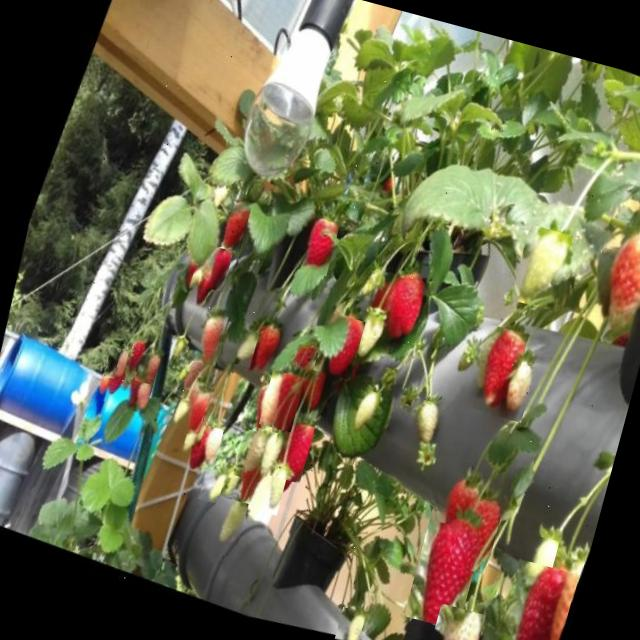ripe: (404, 508, 486, 630), (488, 558, 578, 640), (462, 323, 529, 417), (359, 269, 430, 346), (448, 497, 503, 574), (314, 312, 366, 380), (266, 419, 314, 484), (290, 214, 340, 276), (258, 370, 304, 432), (434, 476, 479, 529), (212, 202, 250, 252), (198, 244, 234, 292), (186, 274, 211, 308)
unripe: (580, 217, 640, 347), (510, 225, 572, 312), (338, 300, 392, 370), (530, 575, 576, 640), (512, 532, 558, 596), (490, 360, 535, 422), (203, 496, 248, 558), (400, 397, 446, 456), (249, 454, 291, 516), (185, 309, 228, 366), (245, 428, 287, 485), (232, 428, 274, 483), (425, 603, 485, 640), (342, 386, 381, 440), (189, 424, 223, 471), (176, 386, 210, 433), (222, 326, 258, 368), (124, 377, 153, 414), (334, 606, 365, 640), (213, 464, 240, 503), (198, 468, 226, 504), (160, 394, 188, 430), (88, 366, 114, 402), (103, 347, 128, 380), (134, 354, 160, 385), (180, 263, 203, 295), (170, 428, 194, 457), (184, 417, 207, 447)
